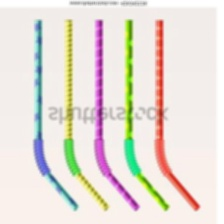drinking_straw: (150, 15, 208, 214), (89, 14, 142, 213), (30, 16, 81, 215)
